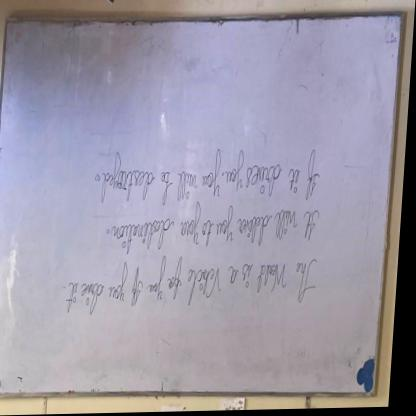Handwritten text: (68, 247, 324, 324), (98, 147, 328, 212), (113, 209, 327, 249)
Whiteboard: (0, 19, 402, 400)
